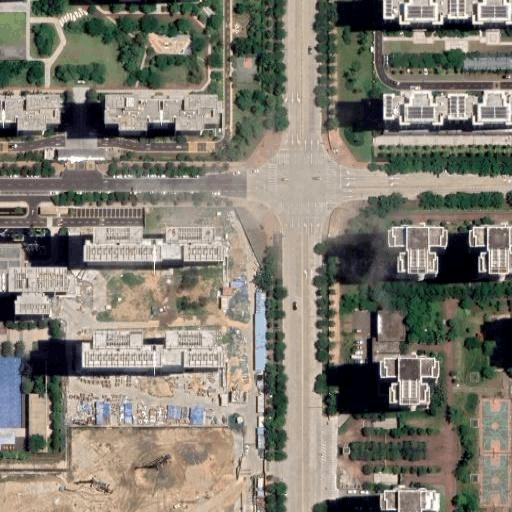building: (83, 328, 214, 368), (83, 226, 223, 263), (383, 92, 512, 125), (104, 94, 218, 130), (387, 224, 450, 276), (382, 0, 512, 25), (381, 359, 438, 403), (470, 225, 512, 271), (380, 489, 439, 512), (29, 393, 48, 451), (255, 294, 267, 369), (377, 310, 404, 339), (371, 339, 398, 351), (374, 350, 402, 361), (21, 393, 29, 427), (222, 287, 234, 295), (230, 283, 241, 287)
